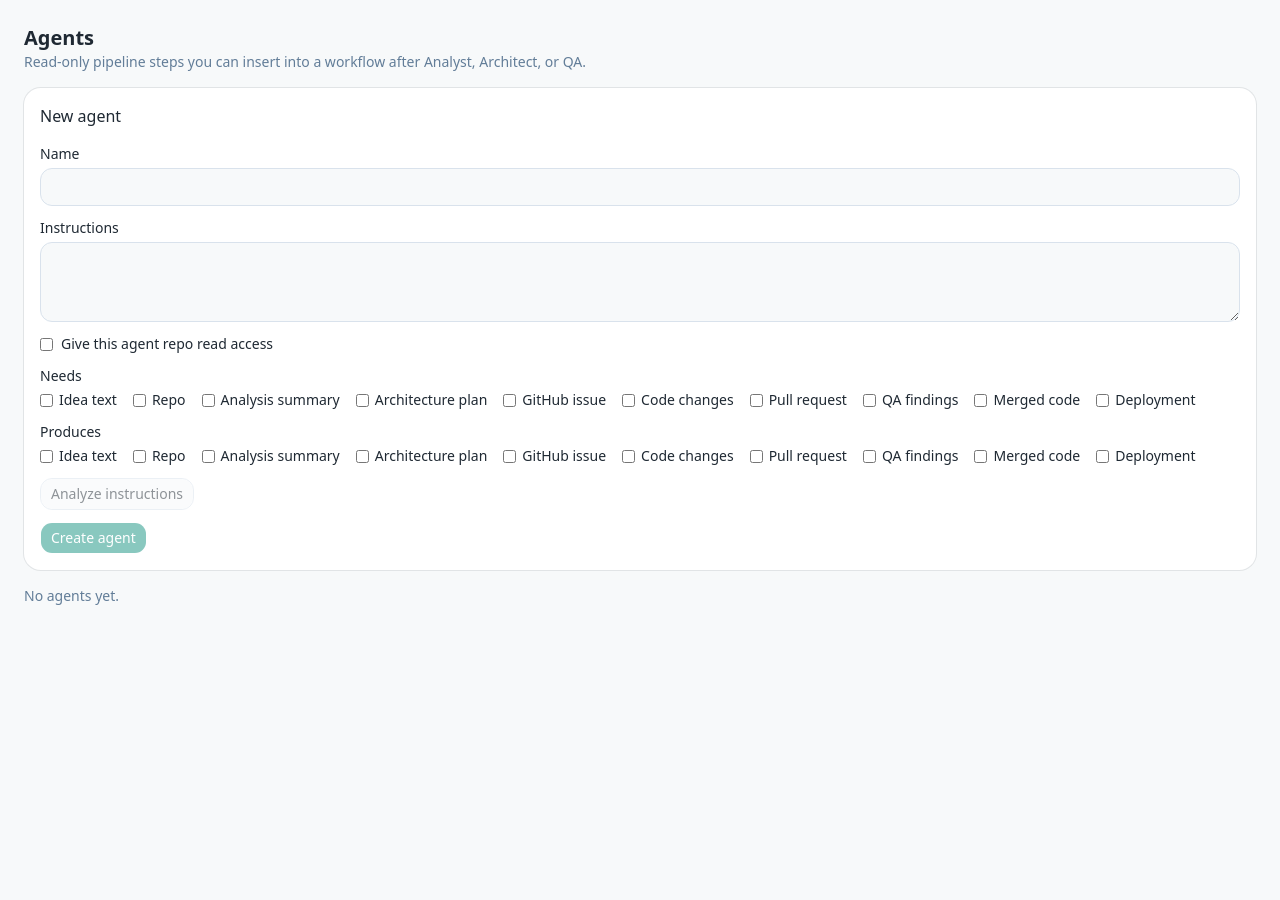
AgentsView › creates a new agent and shows it in the list
Type "Security Reviewer" into the field labelled "Name" at (640, 187), box 40,168 -> 1240,206
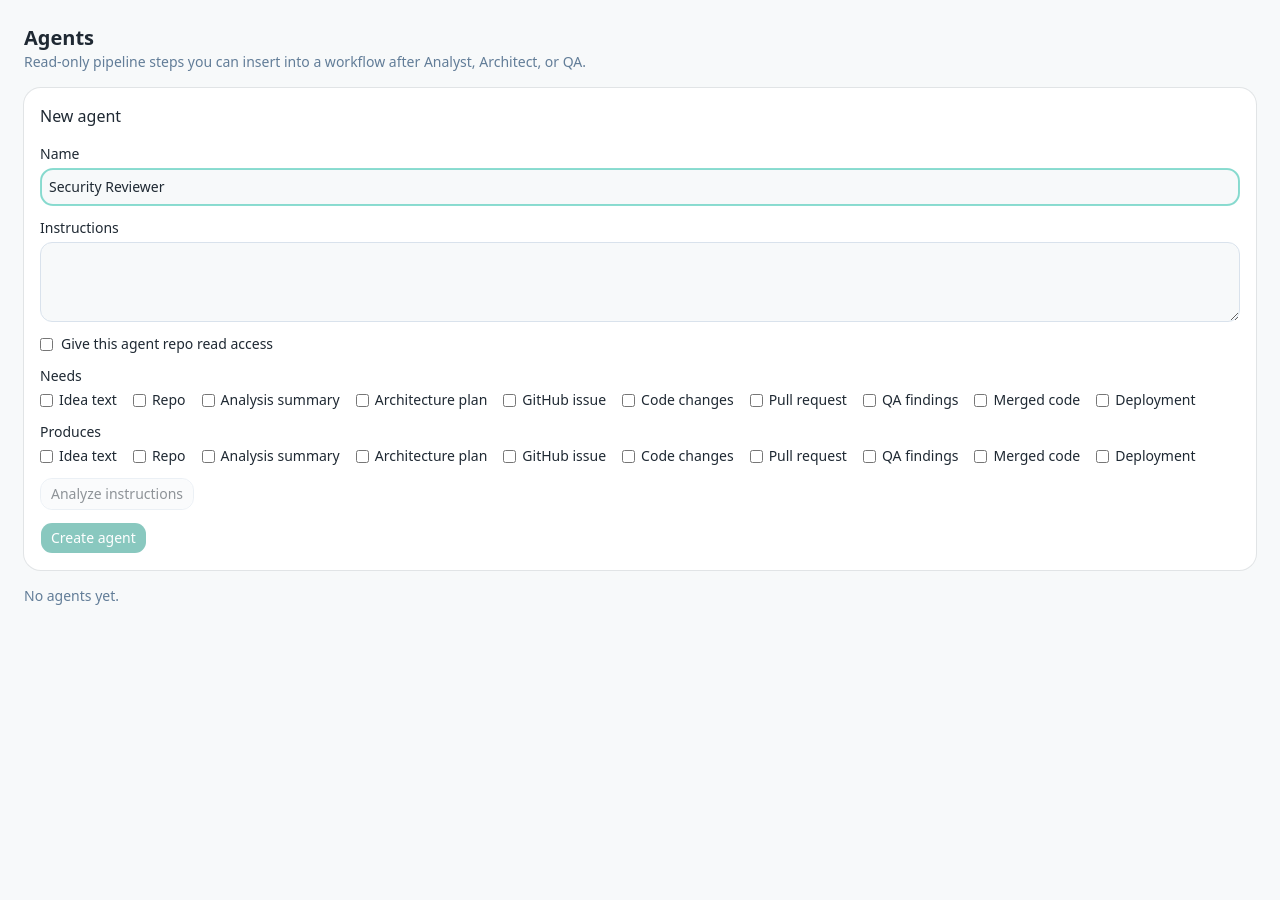
Type "Look for auth bypass issues." into the text box labelled "Instructions" at (640, 282), box 40,242 -> 1240,322
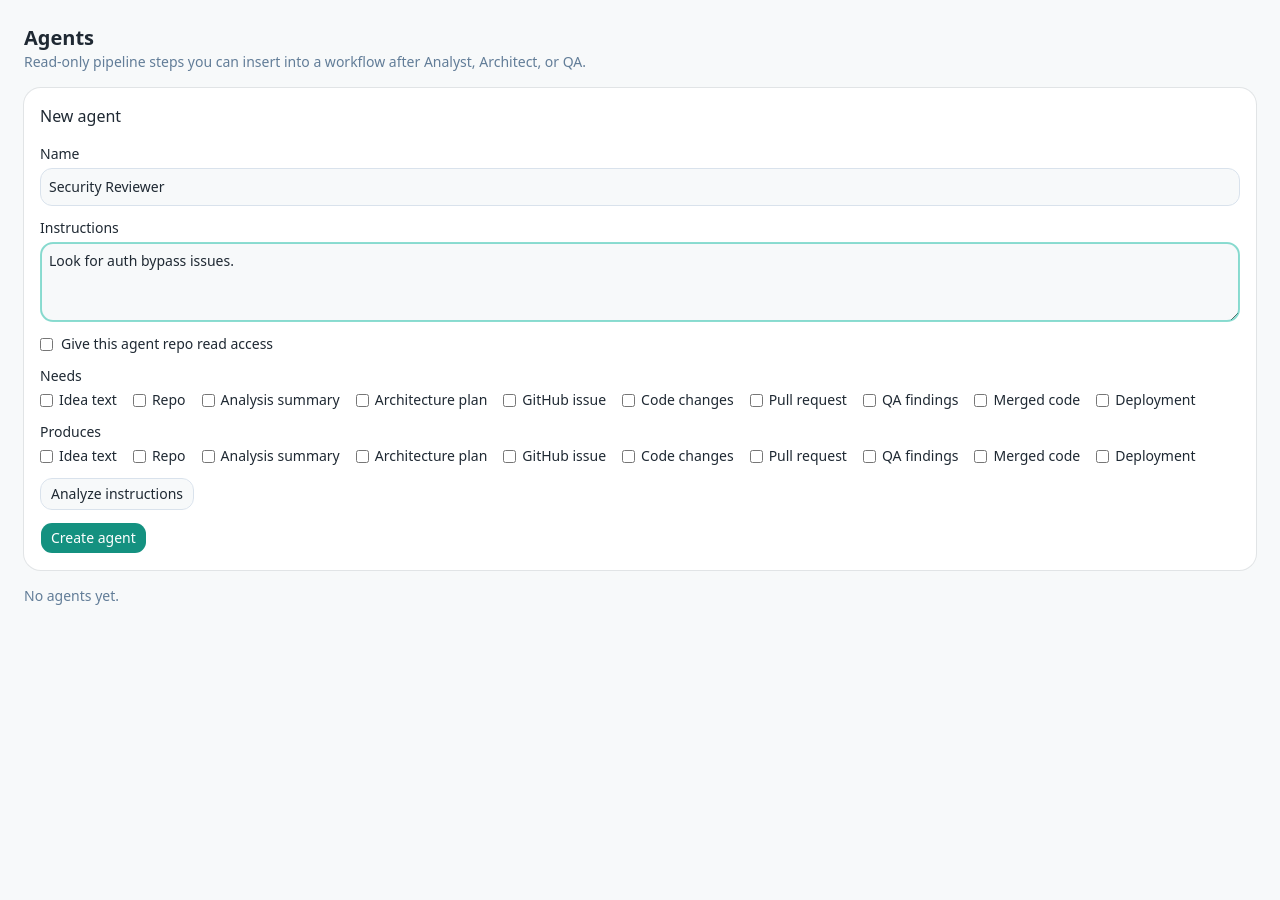
Click the checkbox labelled "Give this agent repo read access" at (46, 344), box 40,338 -> 53,350
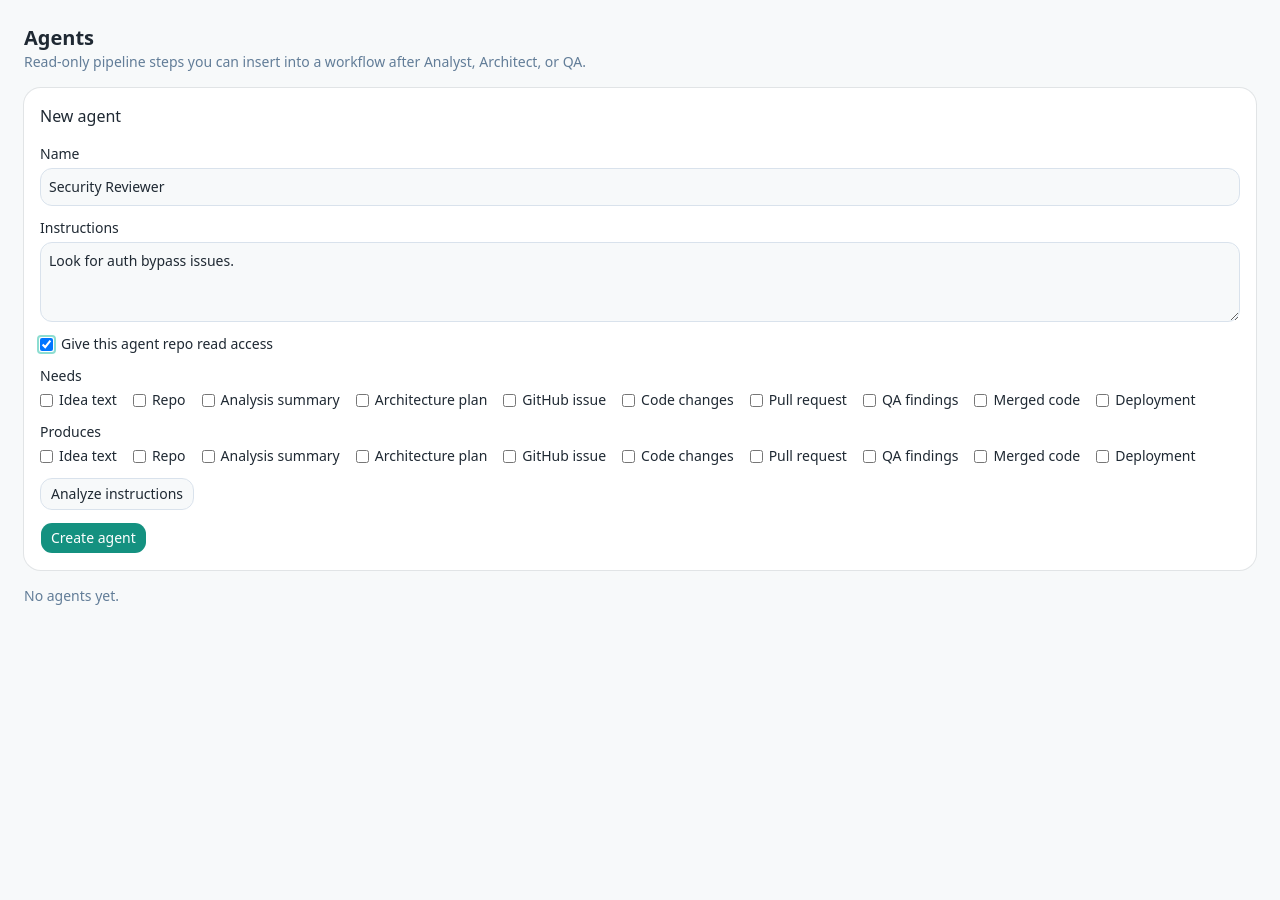
Click the button "Create agent" at (93, 538), box 40,522 -> 147,554
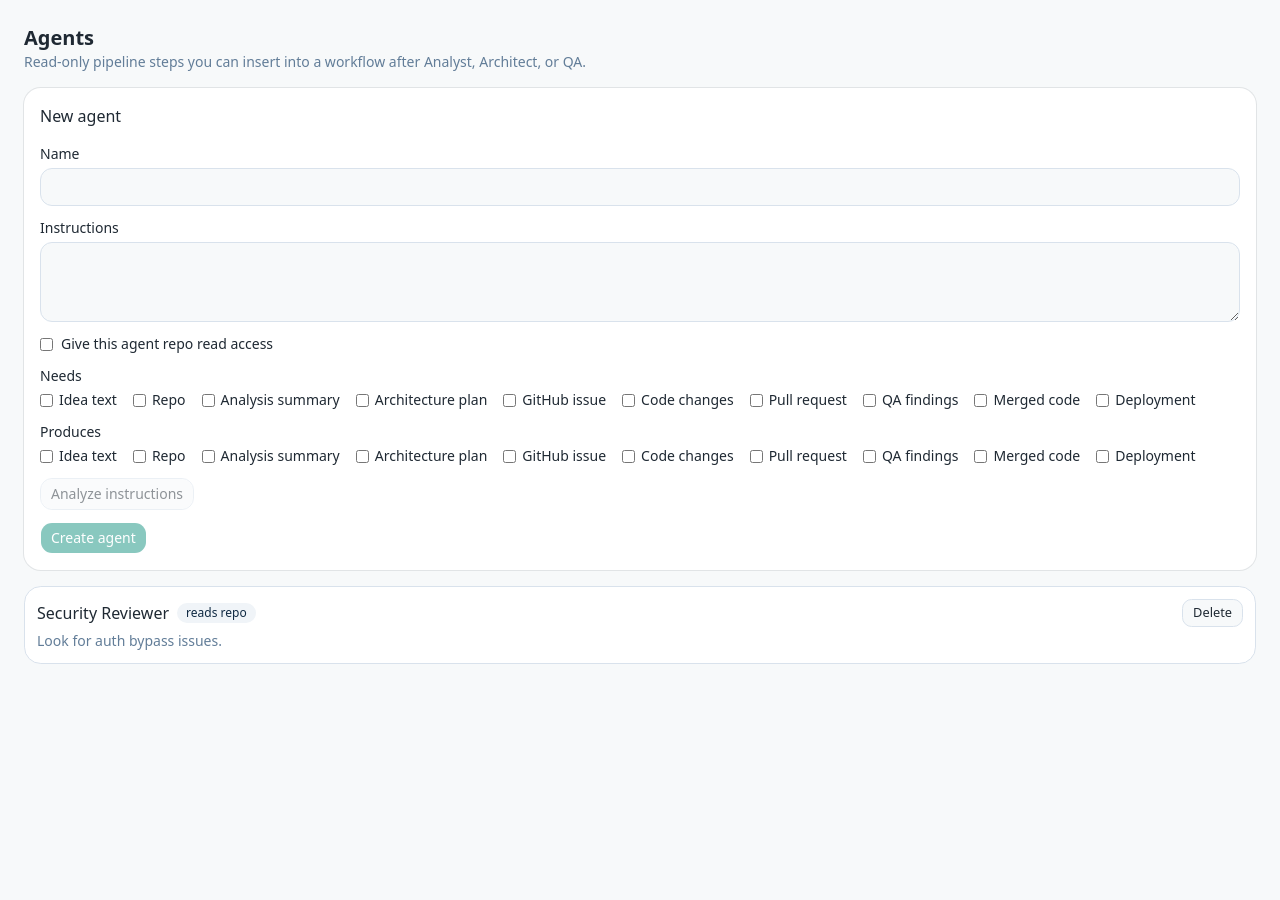
Check: the text "Security Reviewer" is shown, box 37,601 -> 169,625
